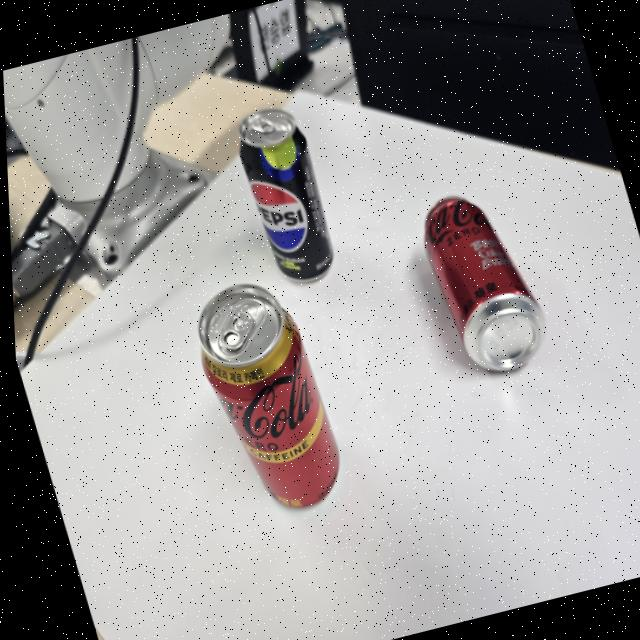can_coke_decaf: (196, 282, 339, 512)
can_coke_zero: (423, 193, 544, 375)
can_pepsi_zero: (236, 104, 336, 284)
